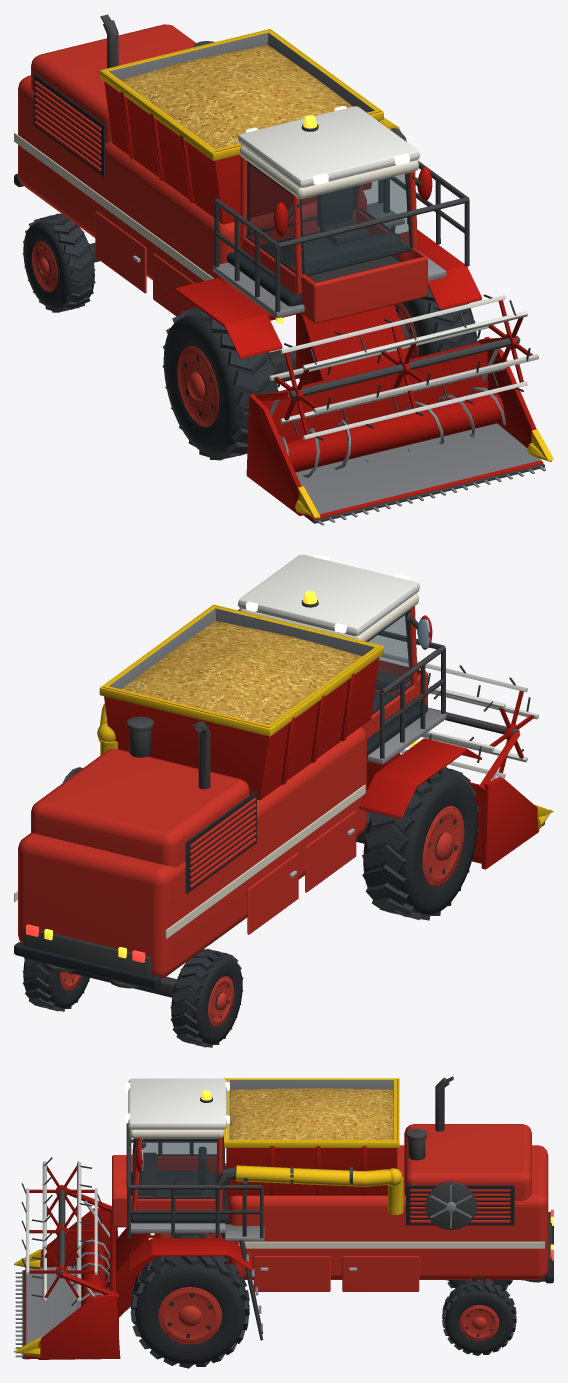
The model's file is cosechadora.glb.
3 renders of one model, top to bottom at view 1: azimuth 30°, elevation 25°; view 2: azimuth 150°, elevation 25°; view 3: azimuth 270°, elevation 25°, orthographic. The views are drawn at different scales.
Visible parts, largest first — view 1: body, shell_f6, reel, wheel_fr, wheel_rr, wheel_fl; view 2: body, shell_f6, wheel_fr, wheel_rr, reel, wheel_rl; view 3: body, shell_f6, wheel_fl, reel, wheel_rl.
Part boxes in pixels (box(x1,y1,x2,y2)): body: box(89, 14, 553, 525); shell_f6: box(14, 24, 427, 323); reel: box(269, 294, 538, 440); wheel_fr: box(162, 307, 278, 460); wheel_rr: box(23, 213, 95, 312); wheel_fl: box(394, 286, 477, 358); body: box(23, 554, 553, 997); shell_f6: box(14, 593, 427, 988); wheel_fr: box(362, 768, 478, 920); wheel_rr: box(170, 948, 243, 1047); reel: box(380, 653, 538, 778); wheel_rl: box(22, 959, 89, 1011); body: box(14, 1076, 553, 1359); shell_f6: box(112, 1124, 553, 1291); wheel_fl: box(130, 1256, 249, 1368); reel: box(21, 1157, 102, 1305); wheel_rl: box(442, 1279, 516, 1355).
Bounding box in the file's own units: 3.47 × 3.9 × 8.22.
22 materials, 1 textured.
